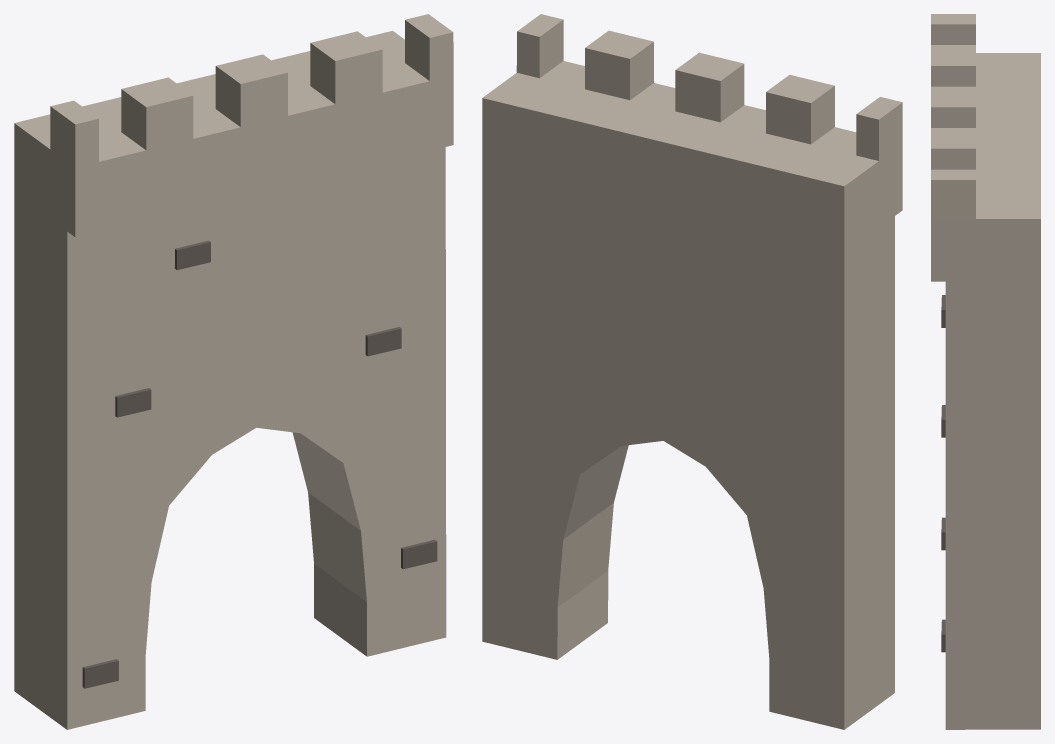
Rendered from castle.glb.
The picture shows the model from 3 angles, left to right: view 1: azimuth 30°, elevation 25°; view 2: azimuth 150°, elevation 25°; view 3: azimuth 270°, elevation 25°; orthographic projection. The views are drawn at different scales.
Visible parts, largest first — view 1: TallWallEntrance; view 2: TallWallEntrance; view 3: TallWallEntrance.
Boxes of the visible parts, box(x1,y1,x2,y2) form: TallWallEntrance: box(14, 14, 453, 729); TallWallEntrance: box(482, 14, 902, 729); TallWallEntrance: box(931, 14, 1040, 729).
Bounding box in the file's own units: 0.6489 × 1 × 0.1808.
